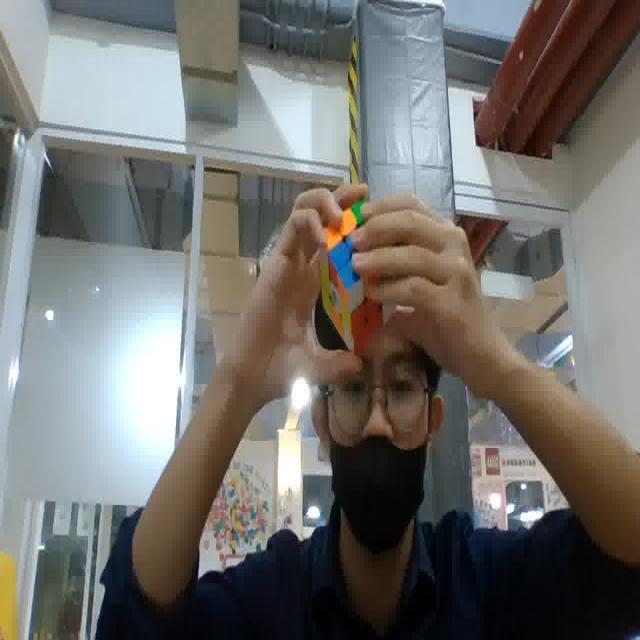Rub: (309, 192, 402, 351)
